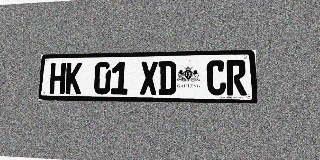0: (94, 62, 111, 94)
1: (111, 62, 128, 95)
C: (206, 60, 226, 95)
D: (158, 61, 176, 95)
H: (49, 63, 66, 94)
K: (65, 62, 82, 94)
R: (226, 60, 247, 96)
X: (140, 61, 158, 95)
